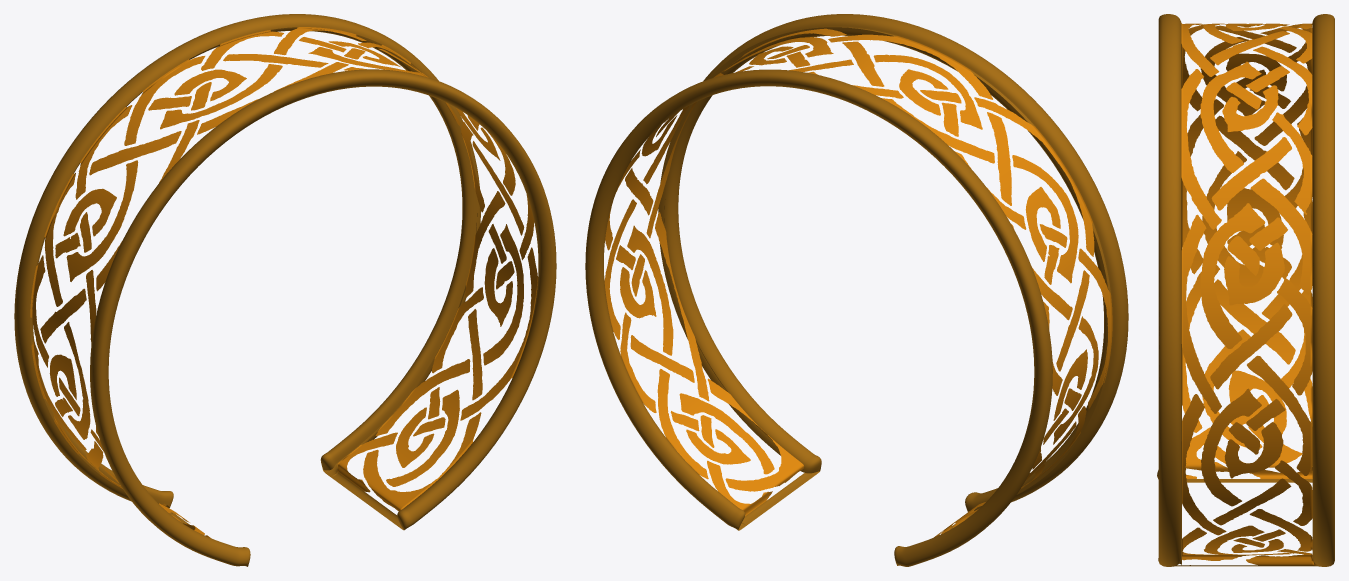
Rendered from bracelet.glb.
3 renders of one model, left to right at view 1: azimuth 30°, elevation 25°; view 2: azimuth 150°, elevation 25°; view 3: azimuth 270°, elevation 25°, orthographic. The views are drawn at different scales.
Visible parts, largest first — view 1: Circle.001, Circle.002; view 2: Circle.001, Circle.002; view 3: Circle.002, Circle.001.
Part boxes in pixels (x1=…): Circle.001: x1=14, y1=14, x2=556, y2=566; Circle.002: x1=30, y1=27, x2=537, y2=537; Circle.001: x1=585, y1=14, x2=1128, y2=566; Circle.002: x1=604, y1=28, x2=1112, y2=537; Circle.002: x1=1181, y1=23, x2=1316, y2=565; Circle.001: x1=1157, y1=14, x2=1334, y2=566.
Size of the model in its own units: 1.98 by 1.93 by 0.6396.
2 materials, 1 textured.
